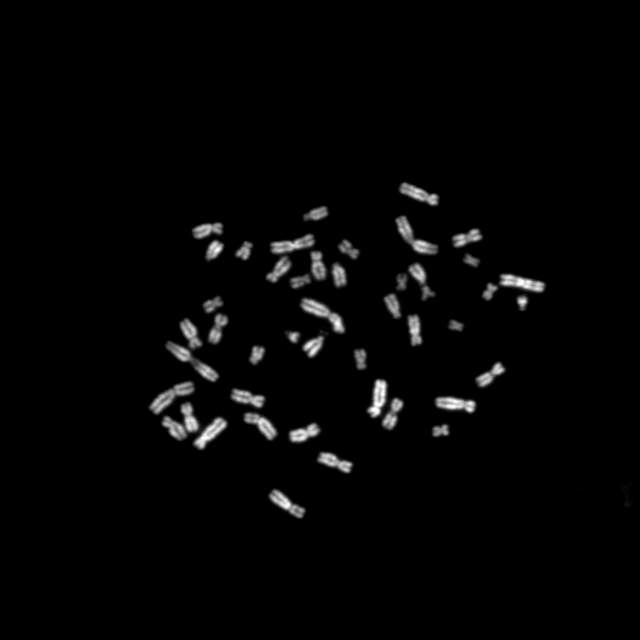chromosome: (165, 342, 218, 384), (397, 216, 438, 256), (298, 298, 344, 332), (149, 381, 196, 414), (194, 416, 226, 450), (270, 488, 304, 520), (242, 412, 276, 440), (400, 182, 438, 204), (271, 236, 315, 254), (476, 361, 504, 389), (501, 274, 544, 292), (366, 380, 386, 418), (435, 396, 475, 414), (181, 319, 203, 351), (318, 453, 352, 472), (384, 398, 404, 430), (453, 227, 482, 249), (266, 256, 290, 282), (230, 389, 264, 407), (208, 314, 228, 344), (290, 423, 320, 442), (302, 334, 324, 358), (383, 294, 403, 320), (192, 222, 224, 238), (164, 416, 186, 439), (301, 207, 329, 225), (310, 250, 326, 280), (408, 315, 422, 347), (182, 403, 198, 431), (341, 238, 359, 262), (331, 262, 347, 288), (410, 264, 426, 286), (205, 241, 222, 261), (236, 240, 252, 260), (291, 273, 311, 289), (203, 297, 222, 313), (282, 330, 300, 346), (482, 282, 496, 302), (249, 346, 263, 366), (354, 350, 368, 370), (464, 253, 480, 269), (421, 285, 435, 303), (431, 424, 449, 438), (394, 274, 406, 294), (447, 320, 463, 334), (516, 296, 528, 314)
